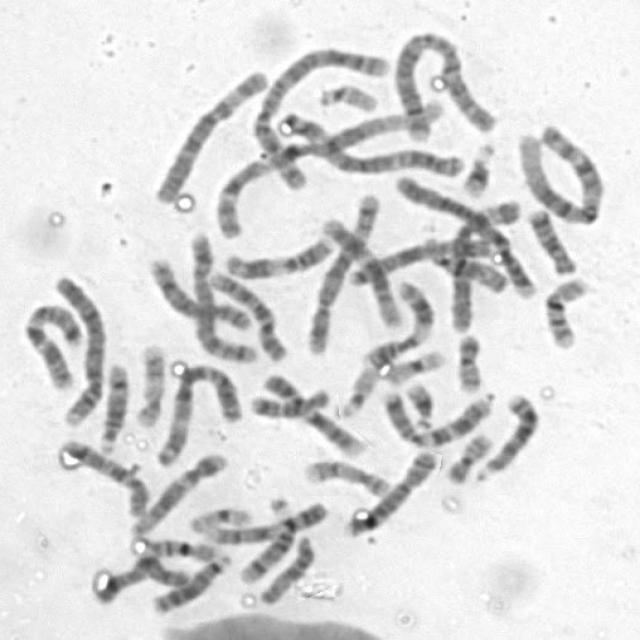A1: (212, 96, 448, 243), (513, 120, 608, 228)
A2: (247, 36, 392, 192), (387, 27, 496, 143)
A3: (276, 107, 466, 178), (150, 356, 244, 468)
B4: (389, 165, 542, 300), (47, 268, 108, 428)
B5: (302, 187, 383, 356), (184, 225, 259, 365)
C10: (53, 433, 152, 519), (203, 266, 288, 363)
C11: (358, 276, 437, 370), (220, 231, 338, 280)
C12: (316, 212, 407, 330), (128, 446, 232, 536)
C6: (146, 63, 270, 205), (444, 193, 524, 334)
C7: (379, 386, 496, 449), (15, 296, 85, 392)
C8: (339, 446, 440, 540), (141, 252, 253, 334)
C9: (256, 367, 366, 457), (200, 497, 332, 546)
D13: (474, 387, 543, 483), (145, 548, 234, 616)
D14: (236, 493, 298, 585), (92, 356, 131, 456)
D15: (418, 228, 511, 294), (253, 529, 319, 606)
E16: (538, 270, 592, 350), (132, 538, 214, 567)
E17: (299, 452, 394, 500), (128, 338, 168, 429)
E18: (522, 203, 580, 275), (246, 383, 331, 420)
F19: (380, 343, 450, 387), (185, 500, 256, 534)
F20: (441, 428, 496, 485), (451, 327, 485, 394)
G21: (456, 136, 498, 199), (401, 375, 437, 431)
G22: (334, 360, 380, 420), (312, 77, 380, 114)
X: (342, 231, 502, 292), (96, 556, 193, 604)
